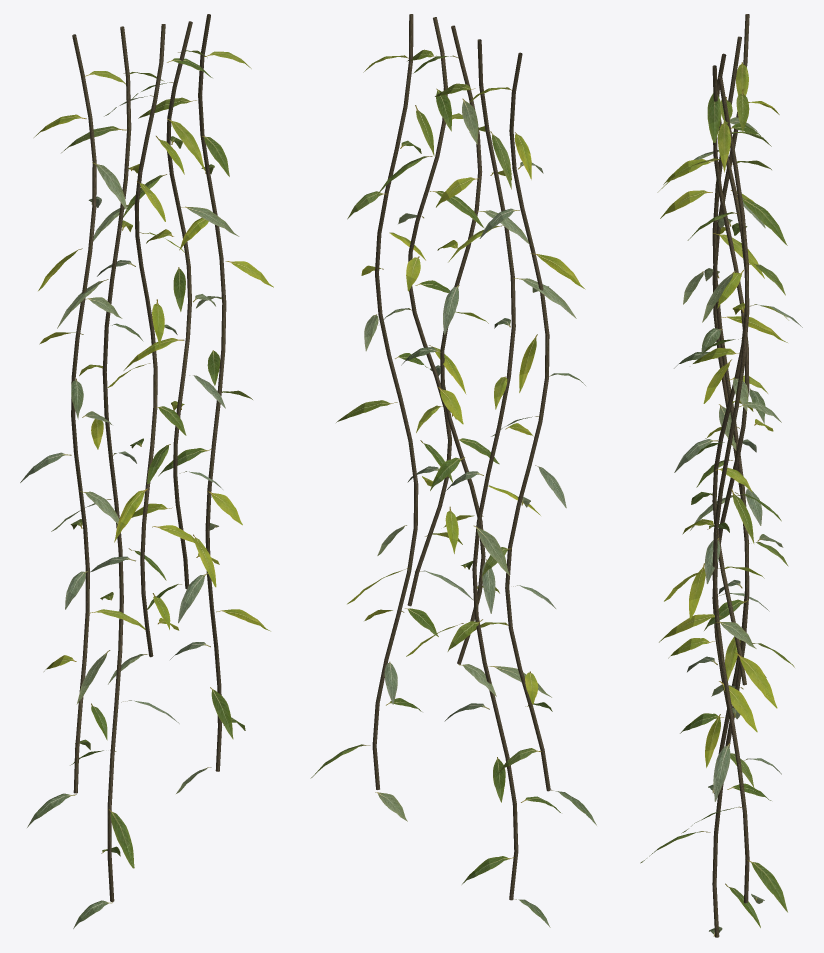
Rendered from vine_02.glb.
3 views of the same model, side by side, from view 1: azimuth 30°, elevation 25°; view 2: azimuth 150°, elevation 25°; view 3: azimuth 270°, elevation 25° (orthographic). The views are drawn at different scales.
Visible parts, largest first — view 1: vine_02; view 2: vine_02; view 3: vine_02.
Boxes of the visible parts, x1,y1,x2,y2 form: vine_02: (20, 14, 273, 928); vine_02: (310, 14, 596, 927); vine_02: (640, 14, 802, 937).
Bounding box in the file's own units: 1.77 × 5.61 × 0.9411.
2 materials, 2 textured.
